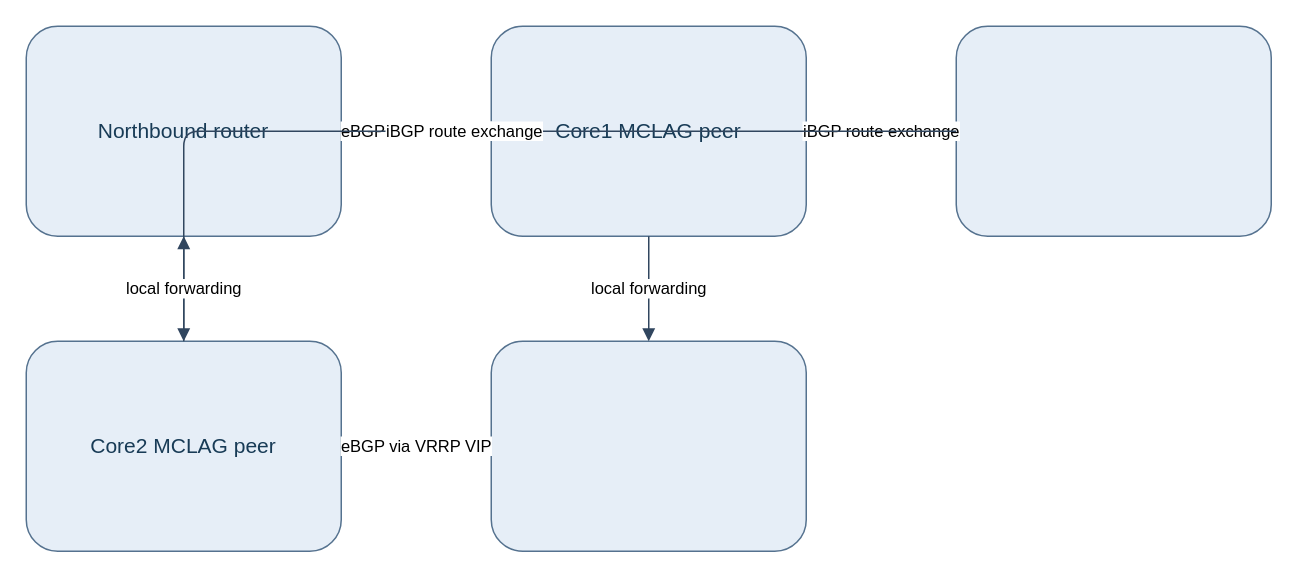
Image size: 1298x578. Some labels were removed from this diagram. Each missing label, with the centre of its shape:
"ICL / iBGP" belongs at [1113,130].
"Southbound router" belongs at [648,445].
